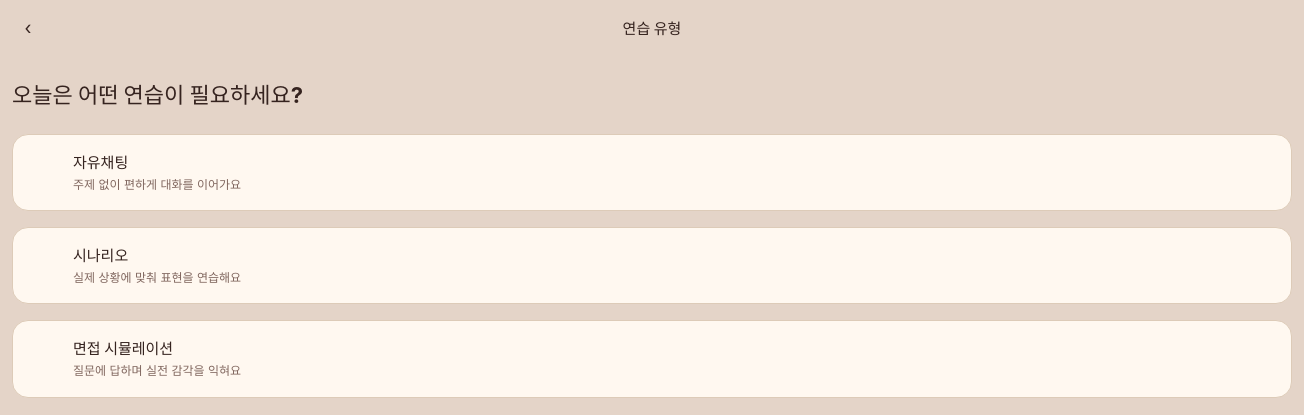
자유채팅 버튼을 누르면 즉시 H03 대화 상대 화면으로 이동한다
The width and height of the screenshot is (1304, 415).
Click the button "자유채팅 주제 없이 편하게 대화를 이어가요": (101, 162) [12,134,1292,211]
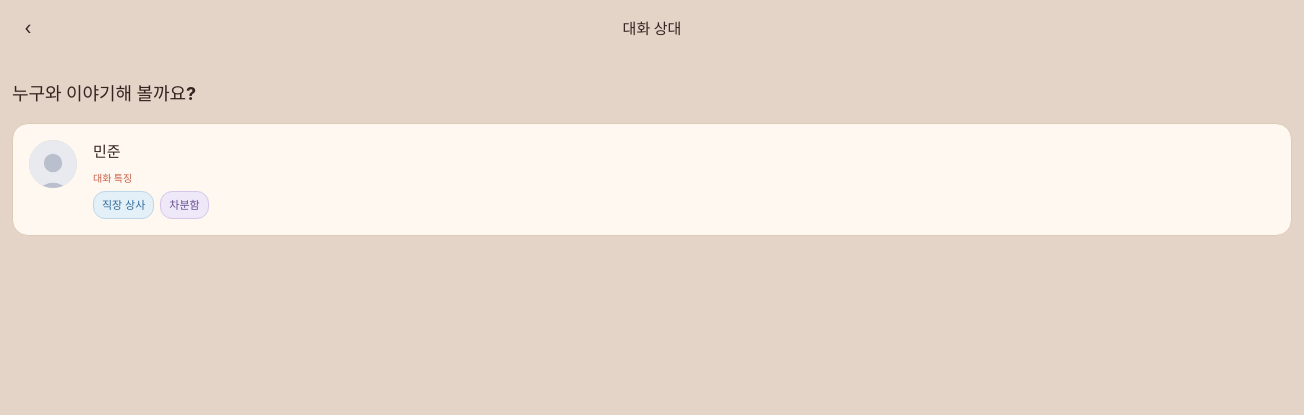
Now the heading "대화 상대" is shown, box [623,16,681,40]
